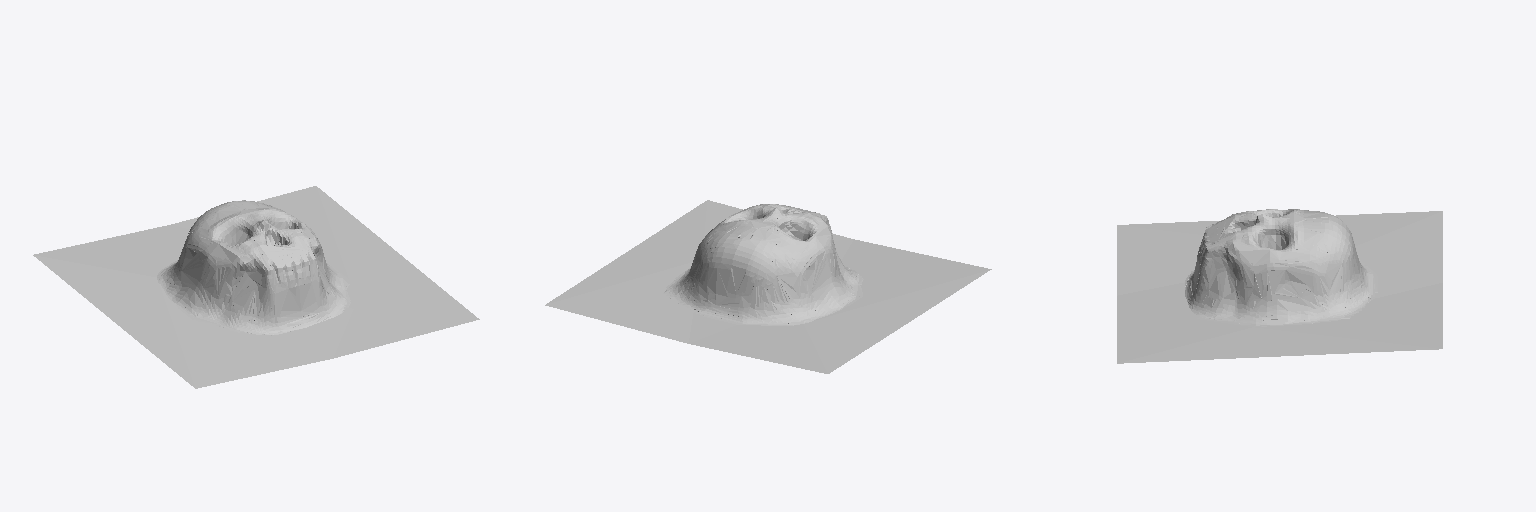
Rendered from sand_stone_curse.obj.
3 renders of one model, left to right at view 1: azimuth 30°, elevation 25°; view 2: azimuth 150°, elevation 25°; view 3: azimuth 270°, elevation 25°, orthographic.
Visible parts, largest first — view 1: Plane; view 2: Plane; view 3: Plane.
Boxes of the visible parts, <box> form: Plane: <box>33,186,479,388</box>; Plane: <box>545,200,991,373</box>; Plane: <box>1117,209,1442,363</box>.
Size of the model in its own units: 1 by 0.2823 by 0.9978.